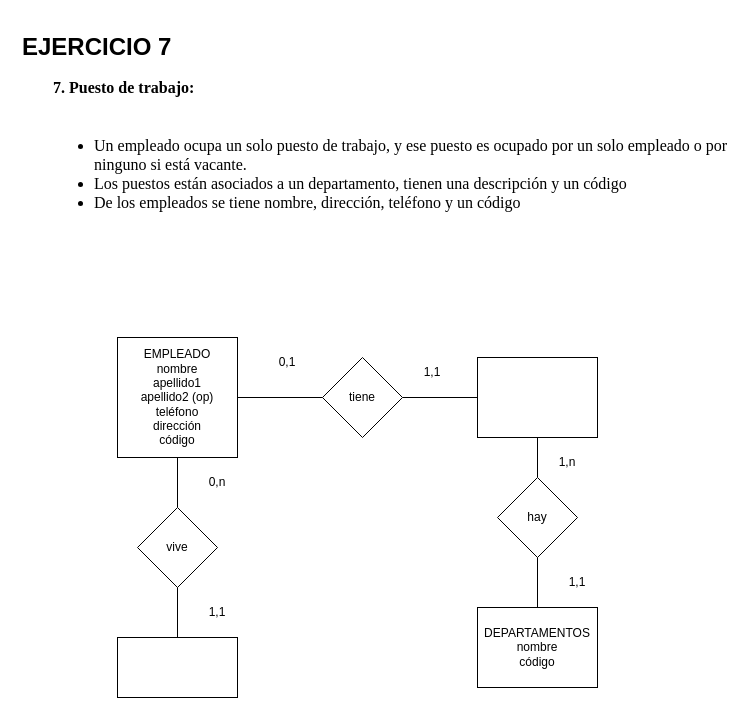
This 754x715 diagram has some shape labels left out. The centre of each missing label's shape, as x and y in pixels:
CIUDAD nombre código: point (177, 667)
PUESTO nombre código descripción: point (537, 397)
